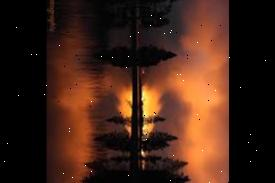fire: (140, 79, 166, 168)
